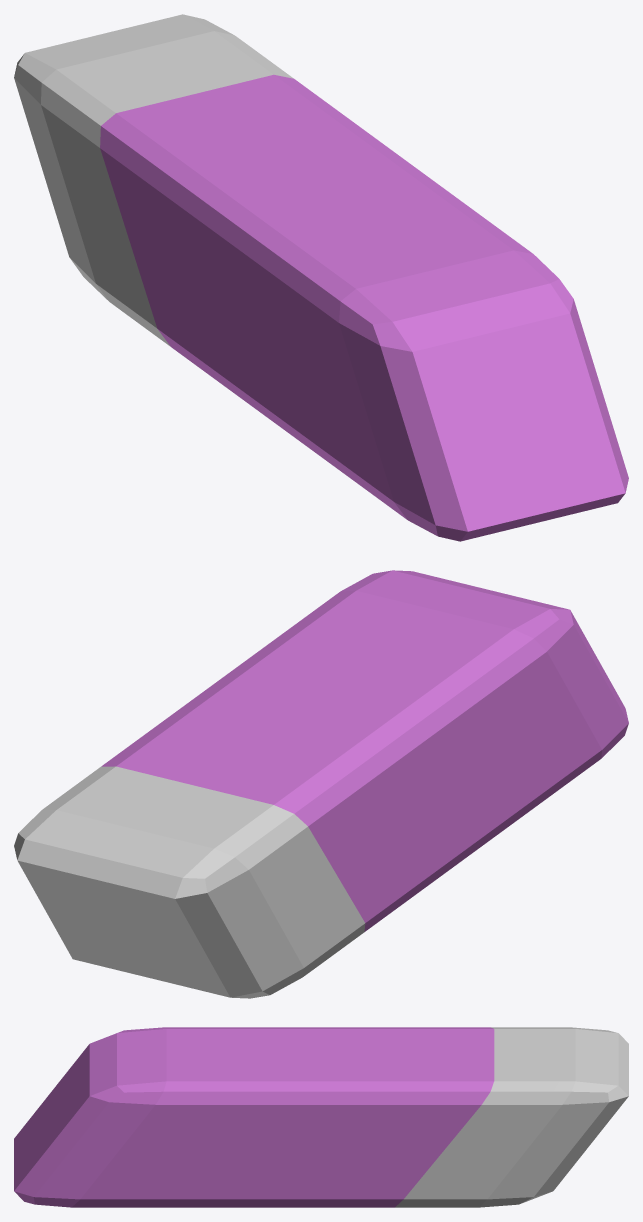
File: eraser.fbx
The picture shows the model from 3 angles, top to bottom: view 1: azimuth 30°, elevation 25°; view 2: azimuth 150°, elevation 25°; view 3: azimuth 270°, elevation 25°; orthographic projection. The views are drawn at different scales.
Visible parts, largest first — view 1: Cube; view 2: Cube; view 3: Cube.
Part boxes in pixels (<box>): Cube: <box>14,14,628,541</box>; Cube: <box>14,570,628,998</box>; Cube: <box>14,1027,628,1207</box>.
Size of the model in its own units: 3.84 by 3.22 by 14.4.
